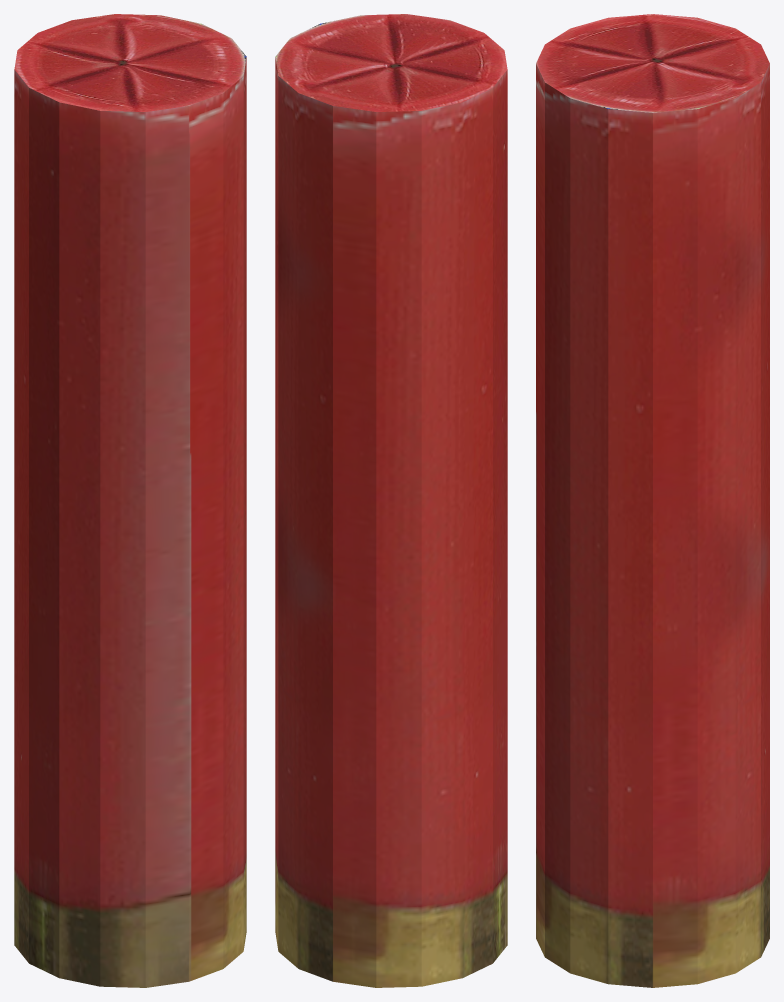
Rendered from MDL_Ammo_ShotgunShell.fbx.
The picture shows the model from 3 angles, left to right: view 1: azimuth 30°, elevation 25°; view 2: azimuth 150°, elevation 25°; view 3: azimuth 270°, elevation 25°; orthographic projection.
Parts seen in each view (by area): view 1: Ammo_Shell; view 2: Ammo_Shell; view 3: Ammo_Shell.
Part boxes in pixels (x1,y1,x2,y2): Ammo_Shell: [14, 14, 246, 987]; Ammo_Shell: [275, 14, 507, 987]; Ammo_Shell: [536, 14, 769, 987].
Bounding box in the file's own units: 1.84 × 7.6 × 1.84.
